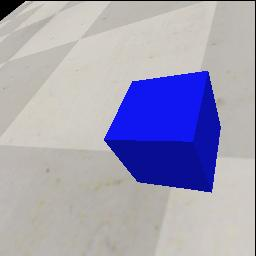box: (104, 71, 221, 193)
